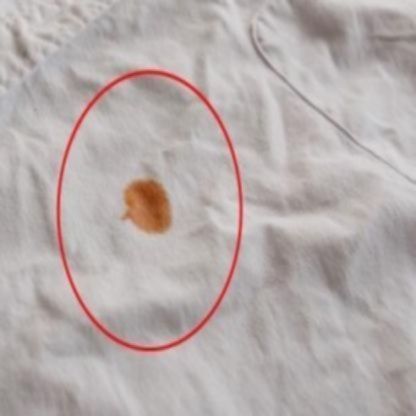kimchi: (106, 170, 182, 241)
